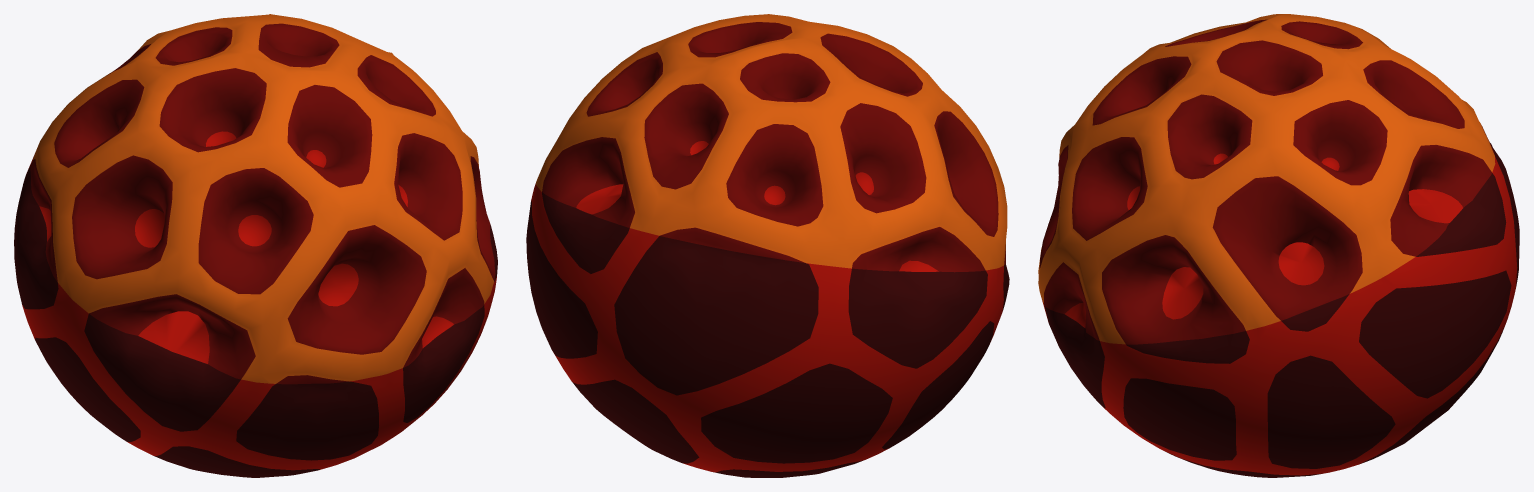
Rendered from cell_sphere_233.glb.
3 views of the same model, side by side, from view 1: azimuth 30°, elevation 25°; view 2: azimuth 150°, elevation 25°; view 3: azimuth 270°, elevation 25° (orthographic).
Visible parts, largest first — view 1: cell_sphere_233; view 2: cell_sphere_233; view 3: cell_sphere_233.
Boxes of the visible parts, x1,y1,x2,y2 form: cell_sphere_233: (14, 14, 497, 477); cell_sphere_233: (526, 14, 1009, 477); cell_sphere_233: (1038, 14, 1519, 477).
Bounding box in the file's own units: 16.7 × 15.8 × 16.57.
